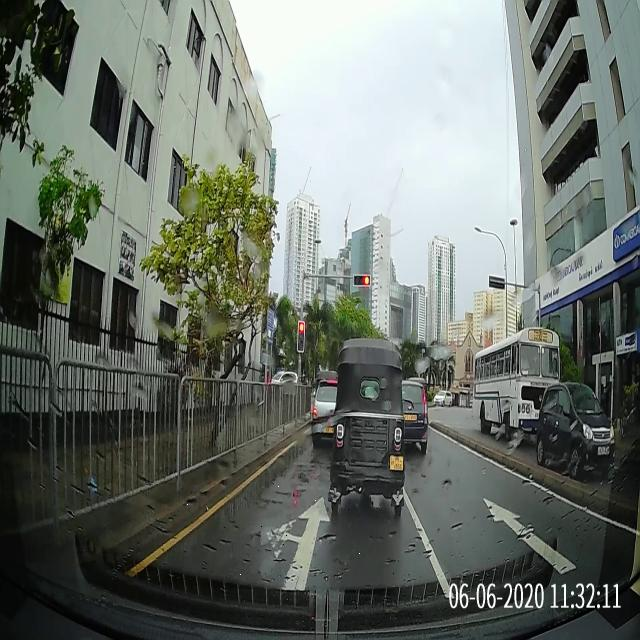forward_lft: (137, 485, 449, 591)
